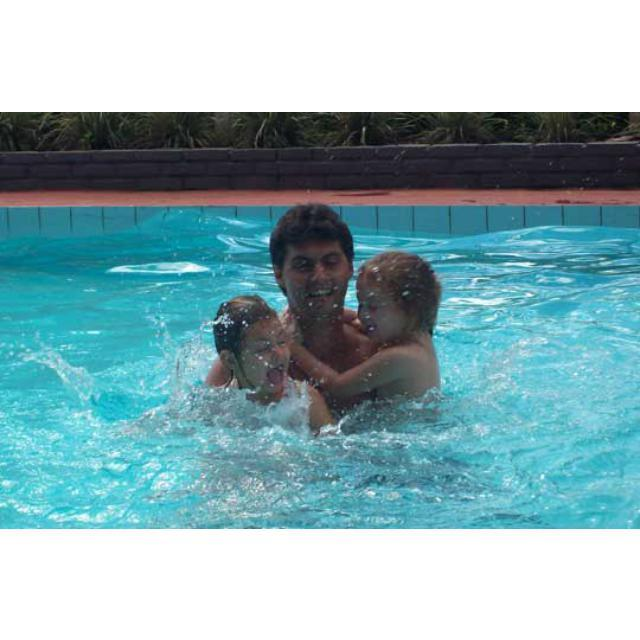human: (267, 199, 384, 386), (323, 250, 439, 407), (203, 285, 322, 428)
